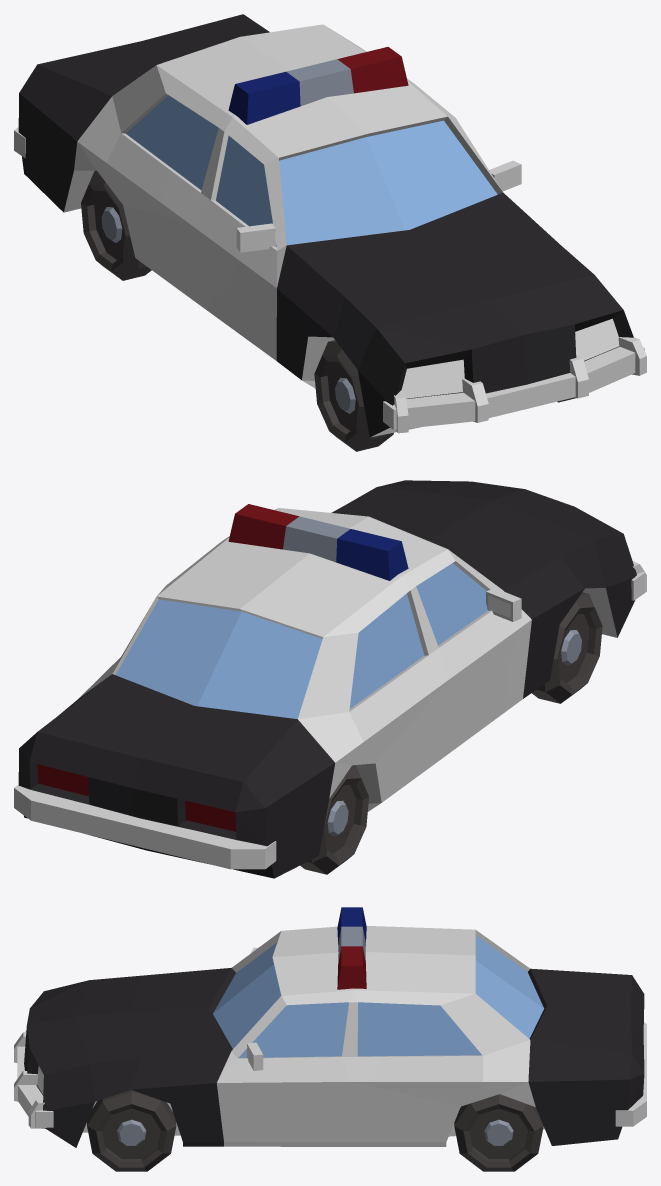
The model's file is Police_Car.fbx.
The picture shows the model from 3 angles, top to bottom: view 1: azimuth 30°, elevation 25°; view 2: azimuth 150°, elevation 25°; view 3: azimuth 270°, elevation 25°; orthographic projection. The views are drawn at different scales.
Parts seen in each view (by area): view 1: Body, Windows, Body_Details, Lights, Wheels; view 2: Body, Windows, Body_Details, Lights, Wheels; view 3: Body, Windows, Wheels, Body_Details, Lights.
Part boxes in pixels (box(x1,y1,x2,y2)): Body: box(18, 14, 633, 437); Windows: box(126, 95, 497, 246); Body_Details: box(14, 127, 646, 437); Lights: box(228, 47, 619, 398); Wheels: box(81, 170, 575, 451); Body: box(18, 480, 636, 878); Windows: box(115, 563, 510, 718); Body_Details: box(14, 561, 646, 869); Lights: box(37, 504, 408, 831); Wheels: box(300, 592, 602, 874); Body: box(24, 926, 644, 1147); Windows: box(213, 935, 544, 1057); Wheels: box(87, 1089, 543, 1171); Body_Details: box(14, 1022, 646, 1136); Lights: box(37, 907, 366, 1094).
Size of the model in its own units: 1.95 by 1.62 by 4.83.
